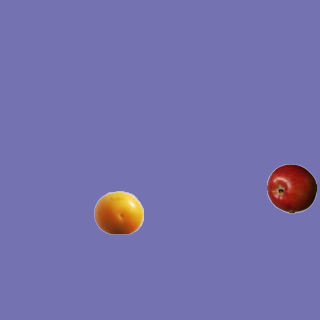Apple Braeburn: (266, 163, 316, 213)
Cherry Wax Yellow: (93, 187, 143, 237)
